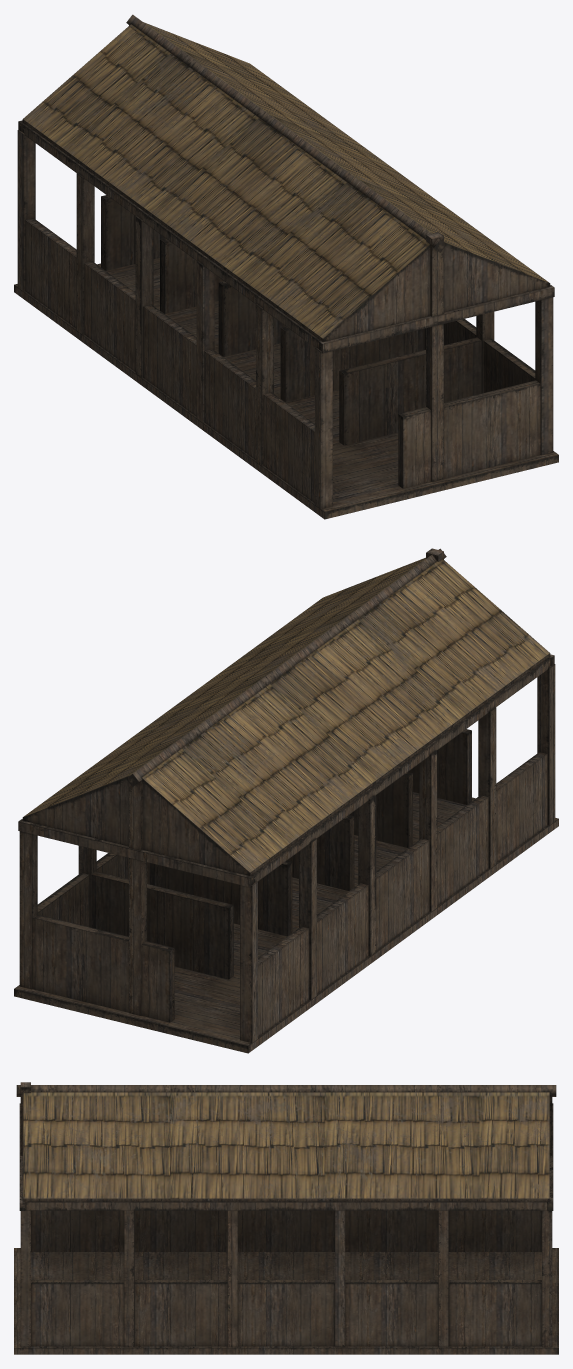
The picture shows the model from 3 angles, top to bottom: view 1: azimuth 30°, elevation 25°; view 2: azimuth 150°, elevation 25°; view 3: azimuth 270°, elevation 25°; orthographic projection. The views are drawn at different scales.
Parts seen in each view (by area): view 1: Horse Shade Stable; view 2: Horse Shade Stable; view 3: Horse Shade Stable.
Boxes of the visible parts, bbox=[...] form: Horse Shade Stable: bbox=[14, 14, 558, 519]; Horse Shade Stable: bbox=[14, 548, 558, 1053]; Horse Shade Stable: bbox=[14, 1082, 558, 1354].
Size of the model in its own units: 3.25 by 3.32 by 7.46.
1 material, 1 textured.
